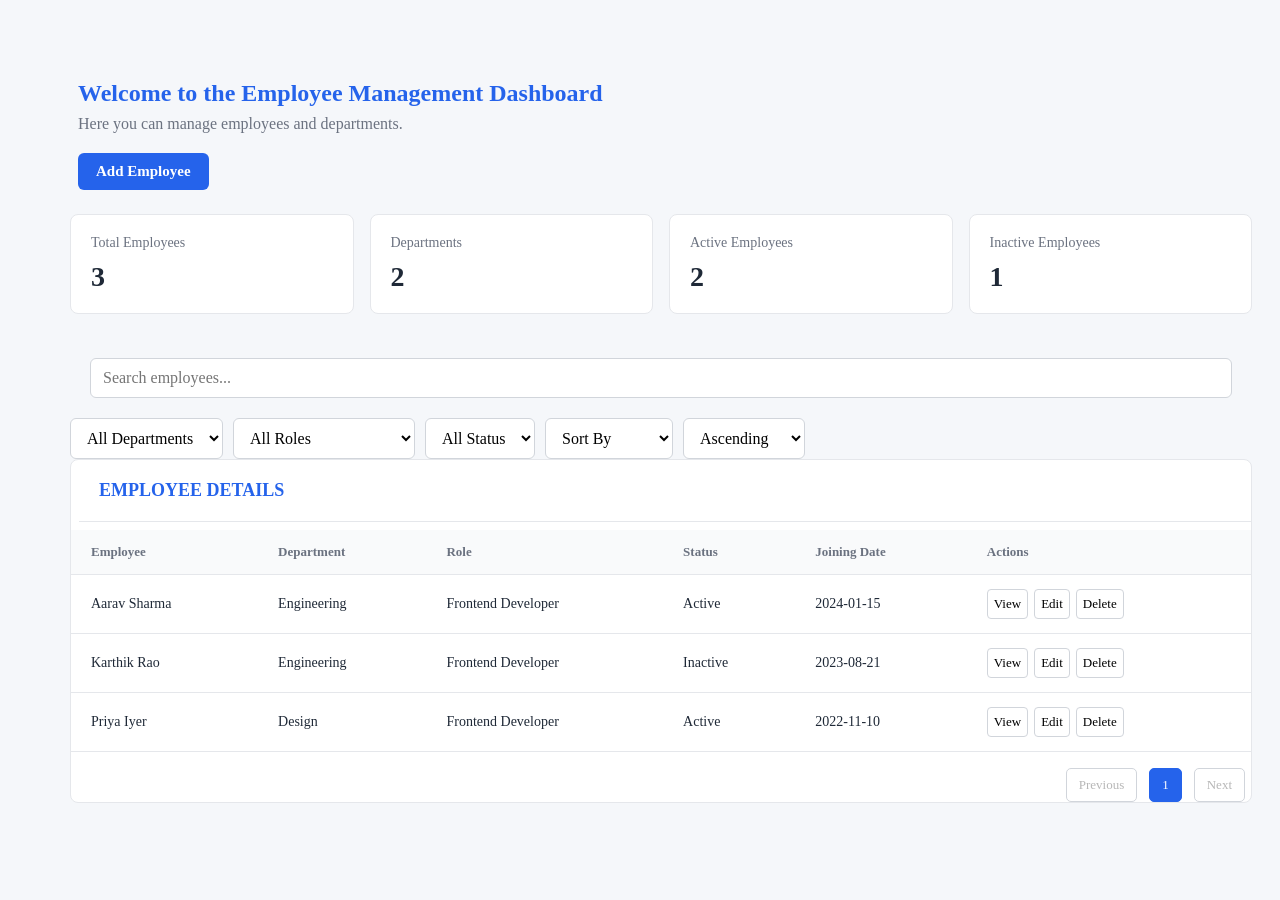
it: Filter › should filter employees using department, role and status
Select "Engineering" in the 1st dropdown showing "All Departments" at x=146, y=438, box [70,418,223,459]
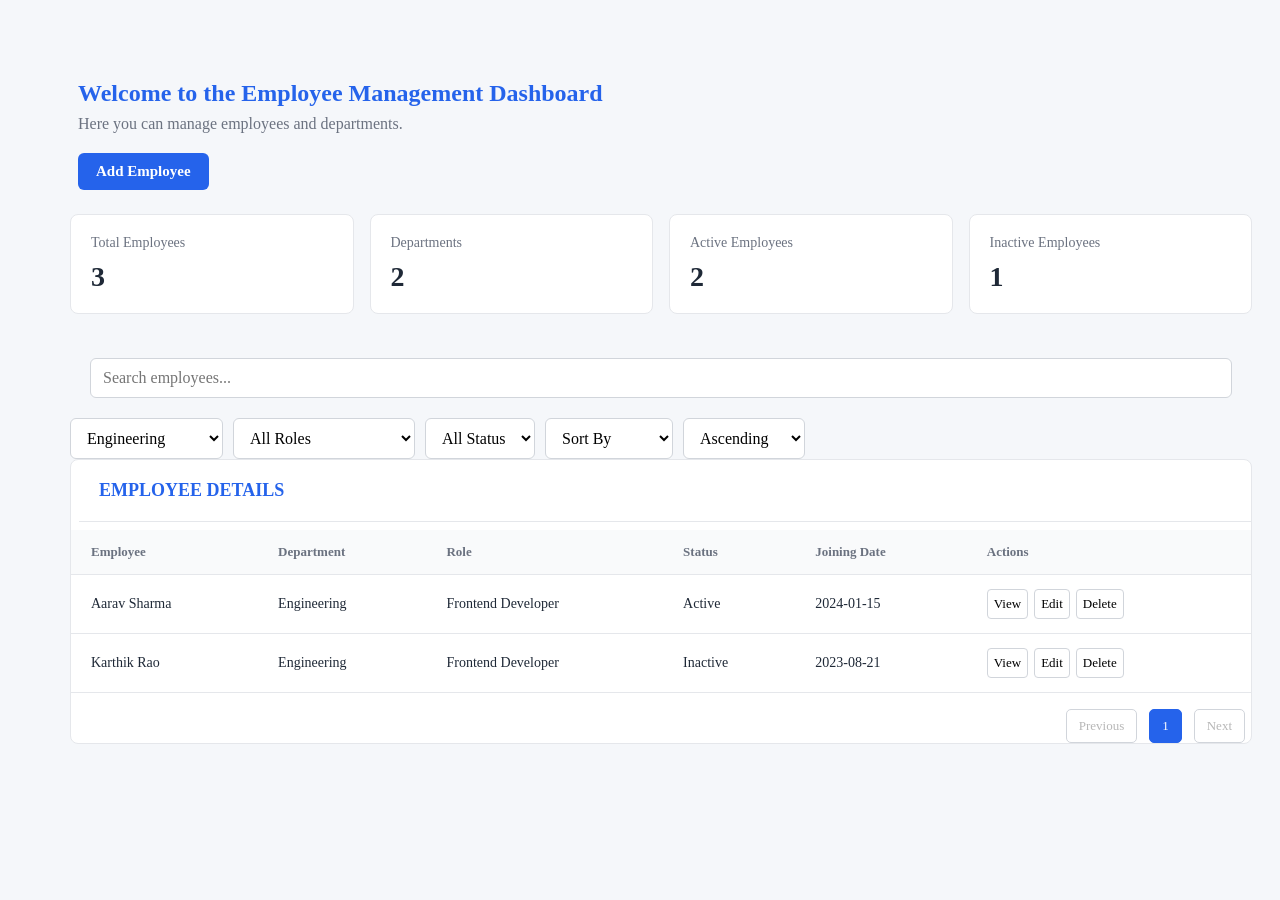
Select "Frontend Developer" in the 2nd dropdown showing "All Roles" at x=324, y=438, box [233,418,415,459]
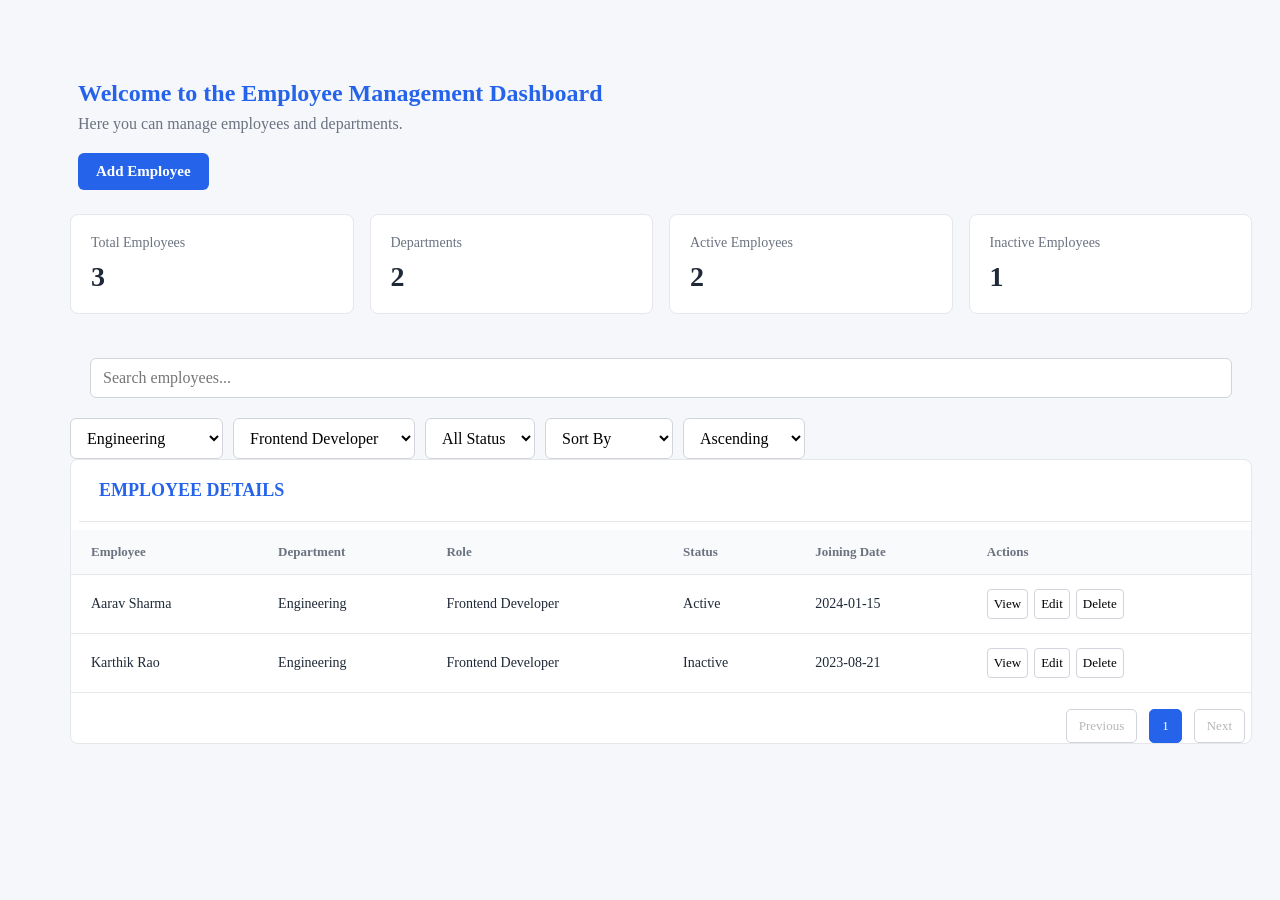
Select "Active" in the 3rd dropdown showing "All Status" at x=480, y=438, box [425,418,535,459]
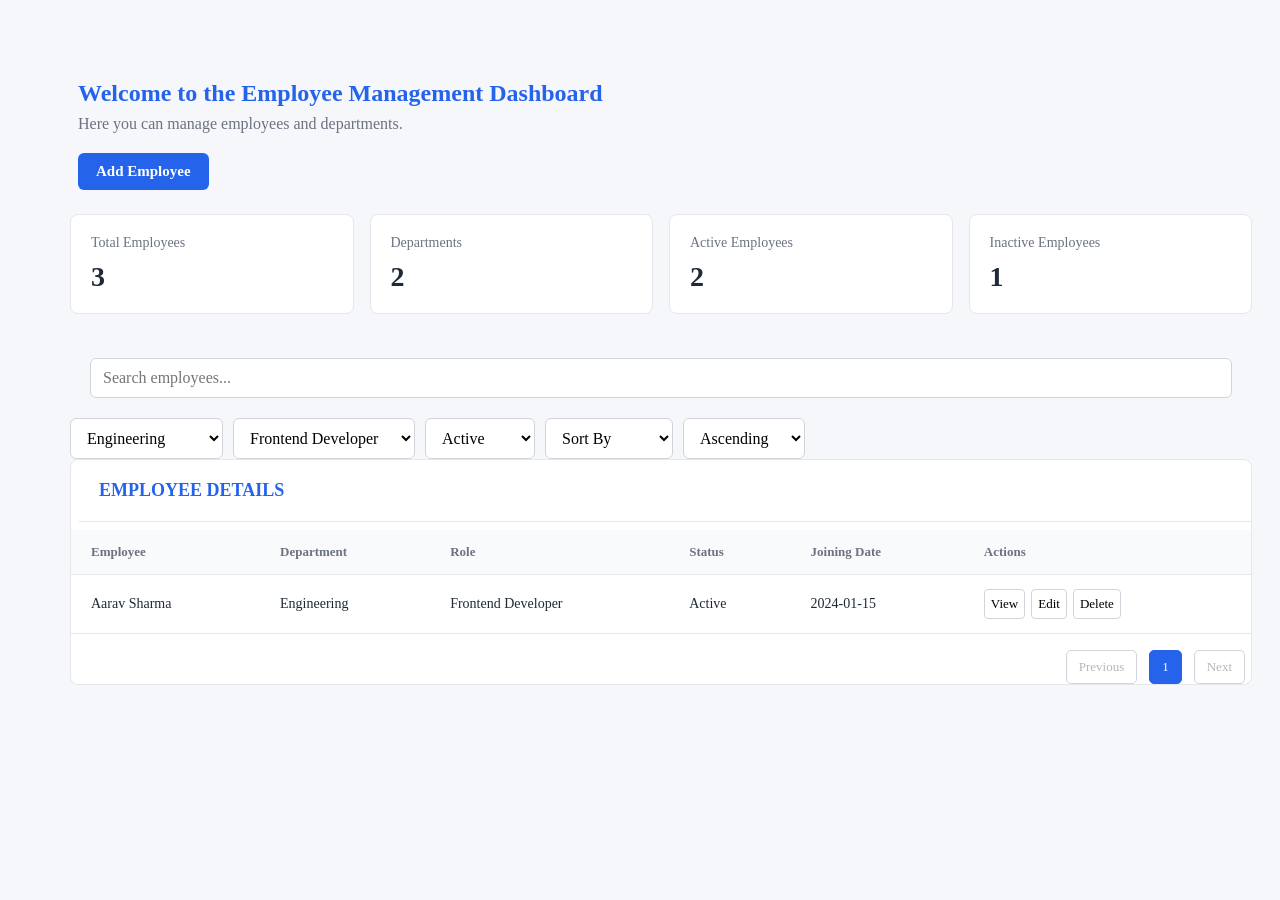
Expected: the text "Aarav Sharma" is shown, [71,574,260,634]
Expected: the text "Karthik Rao" is gone
